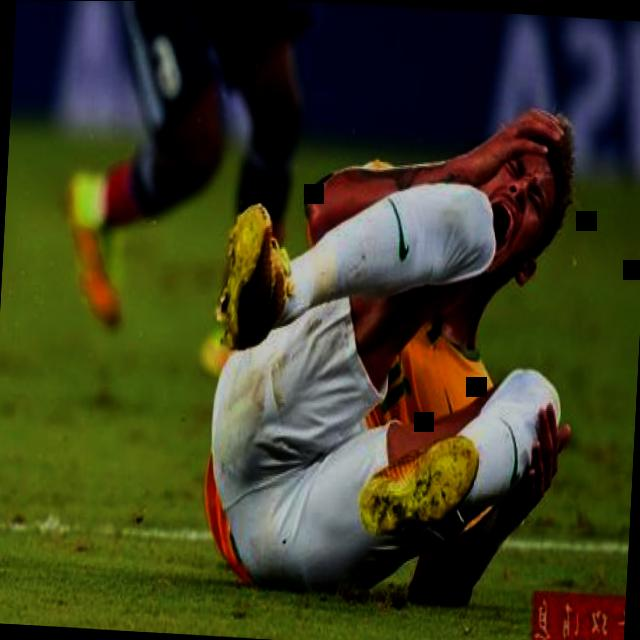Fall-Detected: (202, 63, 600, 614)
